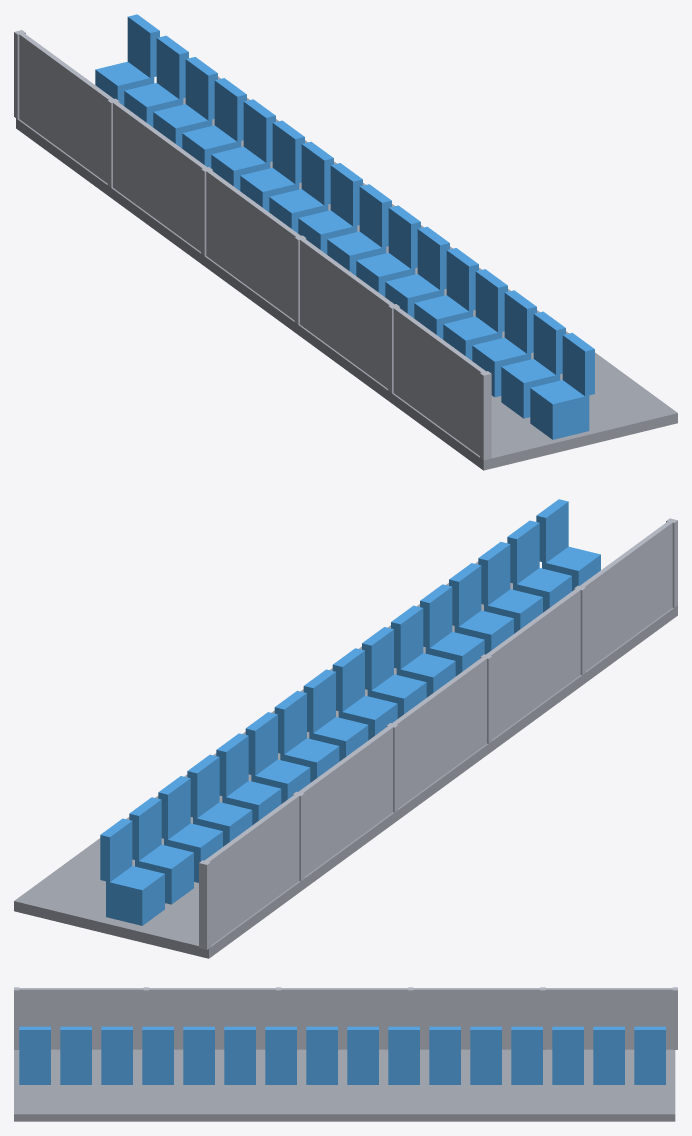
The model's file is Race_seats.fbx.
The picture shows the model from 3 angles, top to bottom: view 1: azimuth 30°, elevation 25°; view 2: azimuth 150°, elevation 25°; view 3: azimuth 270°, elevation 25°; orthographic projection. The views are drawn at different scales.
Parts seen in each view (by area): view 1: Race_seats; view 2: Race_seats; view 3: Race_seats.
Boxes of the visible parts, left/top/right/bottom form: Race_seats: left=14, top=14, right=677, bottom=470; Race_seats: left=14, top=499, right=677, bottom=958; Race_seats: left=14, top=987, right=677, bottom=1121.
Bounding box in the file's own units: 2.4 × 1.12 × 10.04.
